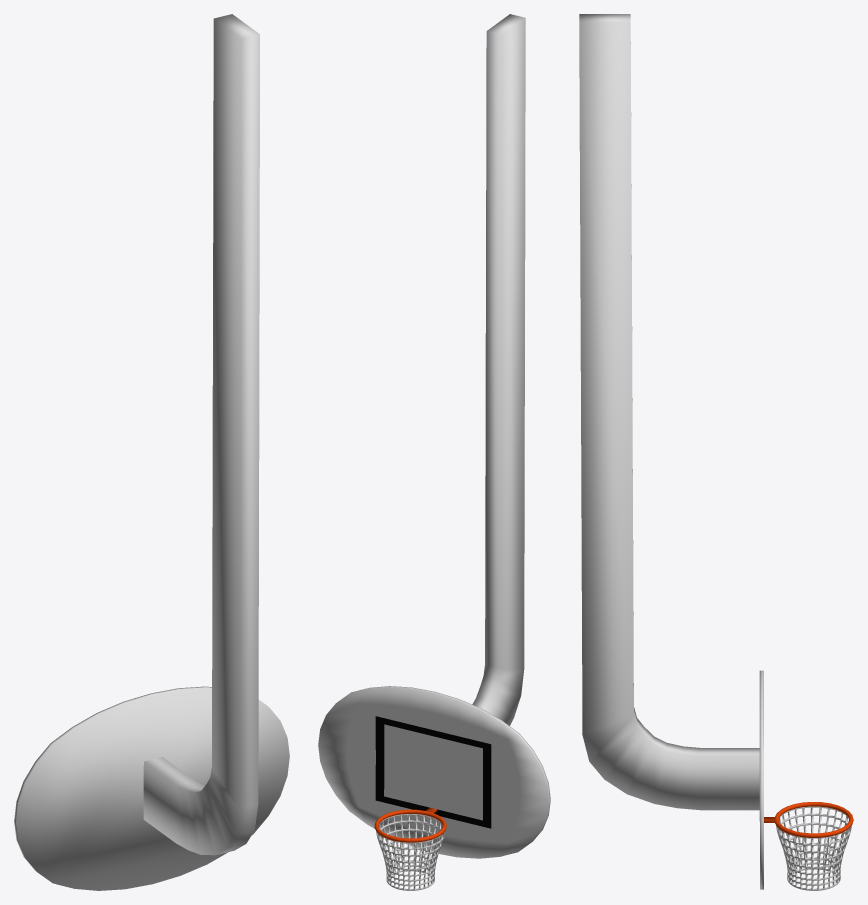
The model's file is panier_basket.fbx.
3 views of the same model, side by side, from view 1: azimuth 30°, elevation 25°; view 2: azimuth 150°, elevation 25°; view 3: azimuth 270°, elevation 25° (orthographic). The views are drawn at different scales.
Visible parts, largest first — view 1: Panier_Basketball; view 2: Panier_Basketball; view 3: Panier_Basketball.
Part boxes in pixels (x1,y1,x2,y2): Panier_Basketball: (14, 14, 289, 890); Panier_Basketball: (318, 14, 550, 890); Panier_Basketball: (579, 14, 853, 890).
Bounding box in the file's own units: 624 × 2034 × 587.
